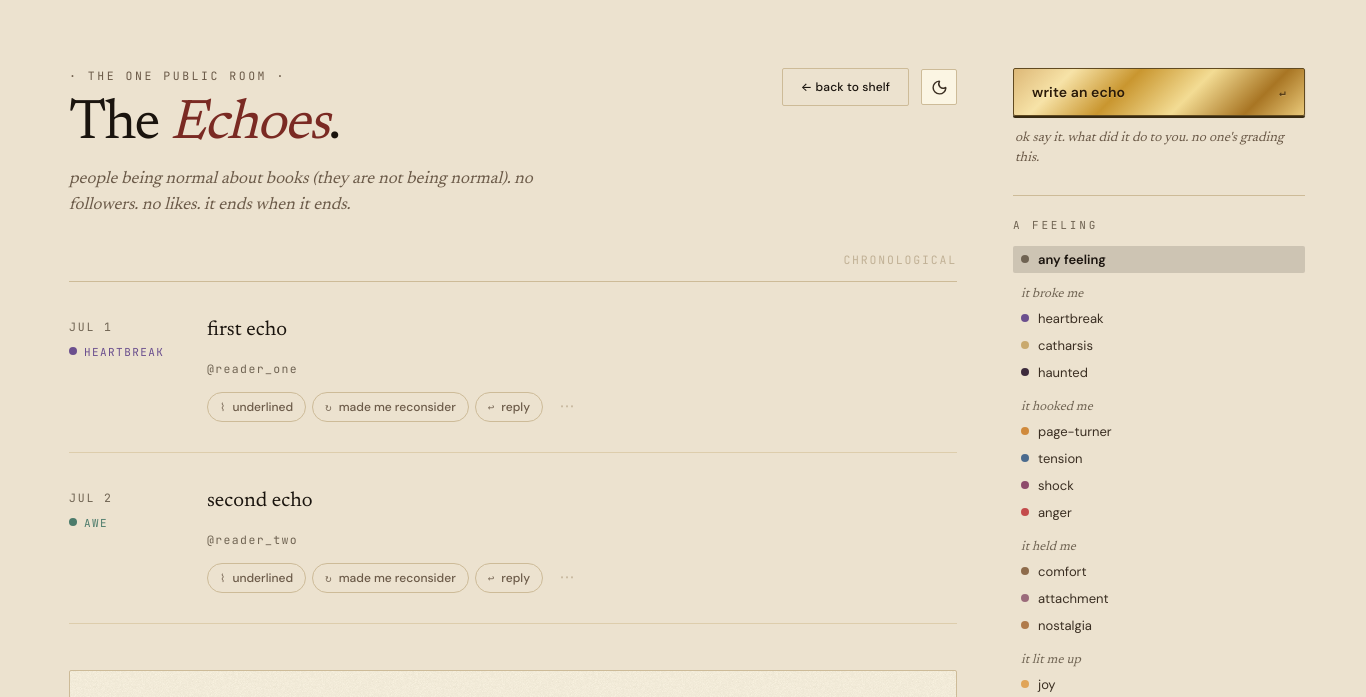
Test case: EchoesPage feed [F3.3] › does not let a slow response for an earlier filter overwrite a faster one for the current filter
Expected: the text "first echo" is shown, [207,320,287,340]
Click the button "heartbreak": point(1071, 318) [1013,304,1305,332]
(page scrolled)
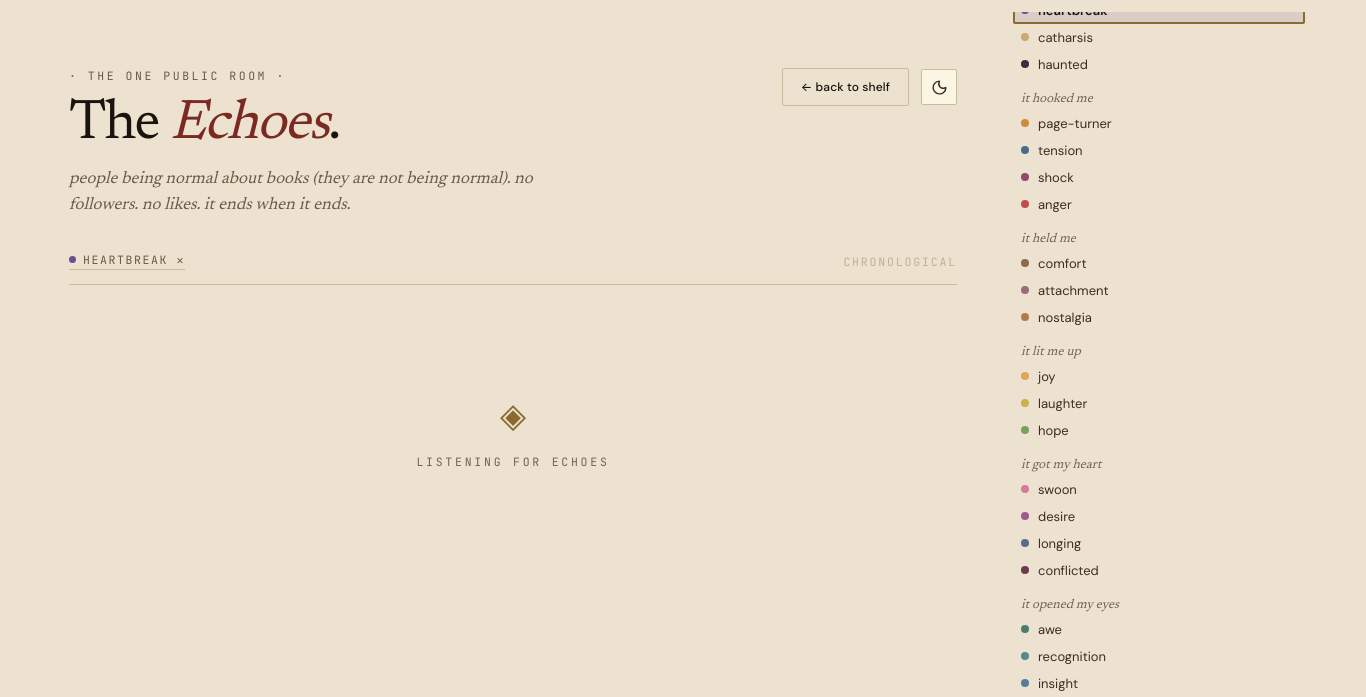
Click the button "awe": point(1025, 629) [1013,616,1305,642]
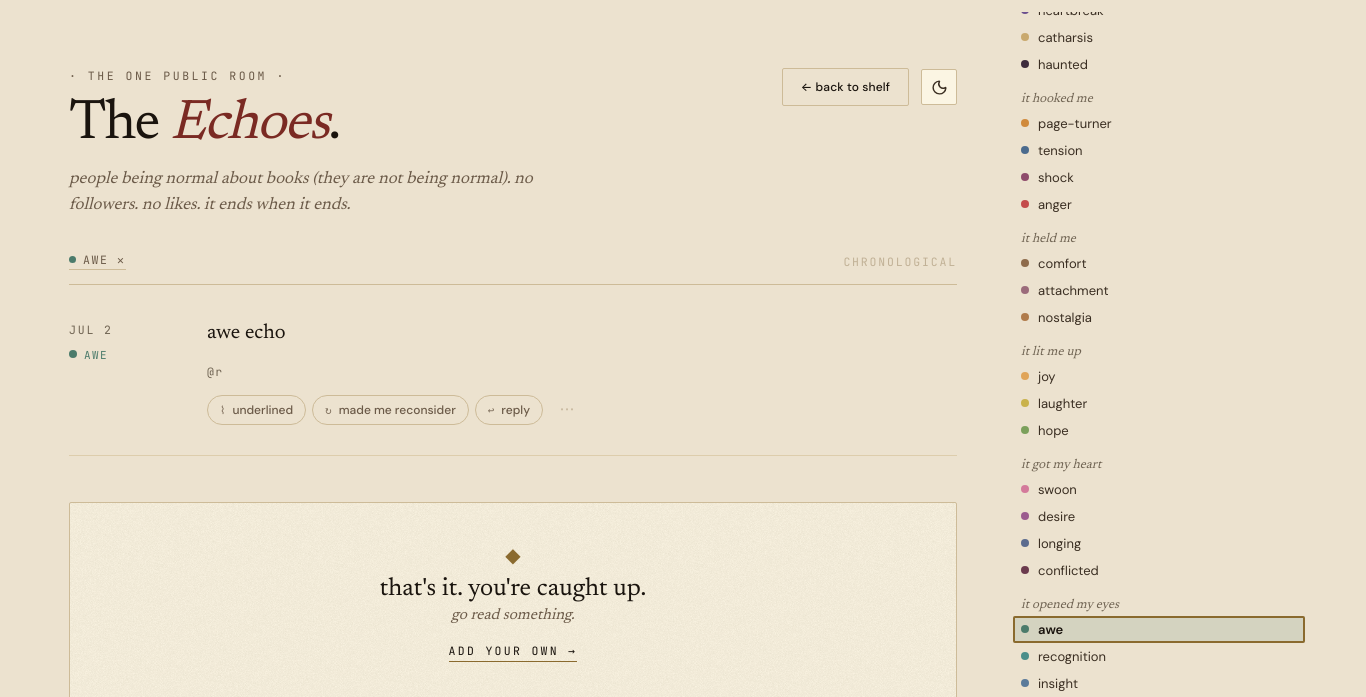
Now the text "awe echo" is shown, box [207,323,286,343]
